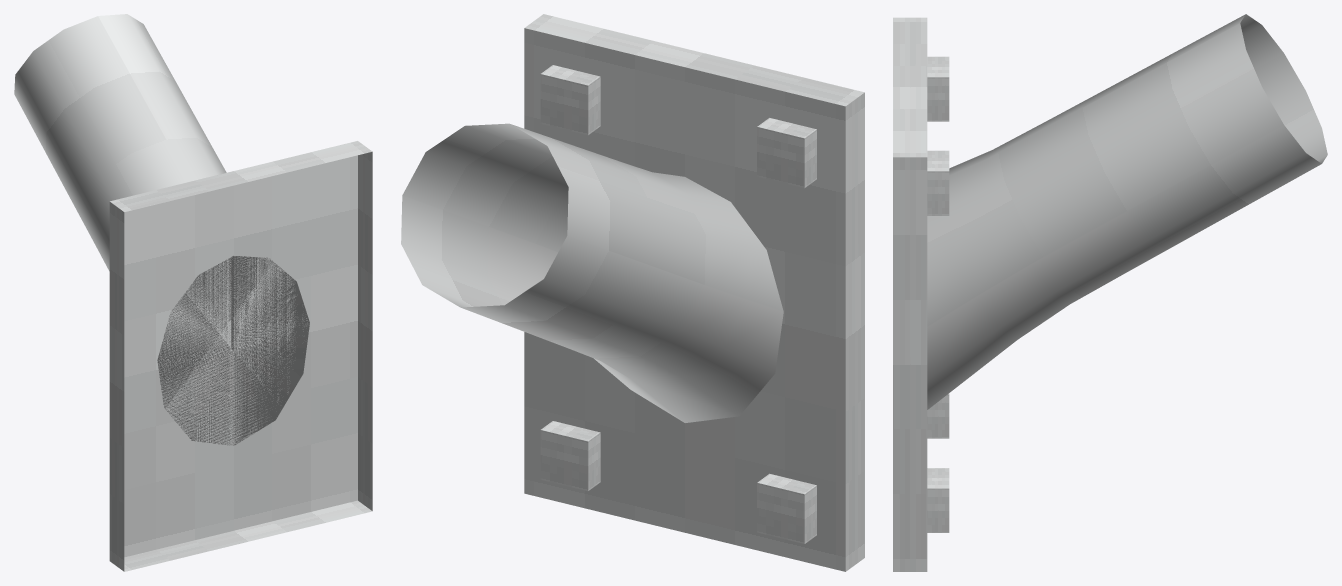
The model's file is luminairearm_caltrans8ftstraightdouble_c0_wall.obj.
3 renders of one model, left to right at view 1: azimuth 30°, elevation 25°; view 2: azimuth 150°, elevation 25°; view 3: azimuth 270°, elevation 25°, orthographic. The views are drawn at different scales.
Visible parts, largest first — view 1: luminairearm_caltrans8ftstraightdouble_c0_wall; view 2: luminairearm_caltrans8ftstraightdouble_c0_wall; view 3: luminairearm_caltrans8ftstraightdouble_c0_wall.
Part boxes in pixels (box(x1,y1,x2,y2)): luminairearm_caltrans8ftstraightdouble_c0_wall: box(14, 14, 372, 571); luminairearm_caltrans8ftstraightdouble_c0_wall: box(401, 14, 864, 571); luminairearm_caltrans8ftstraightdouble_c0_wall: box(893, 14, 1327, 571).
Bounding box in the file's own units: 0.4219 × 0.6747 × 0.555.
